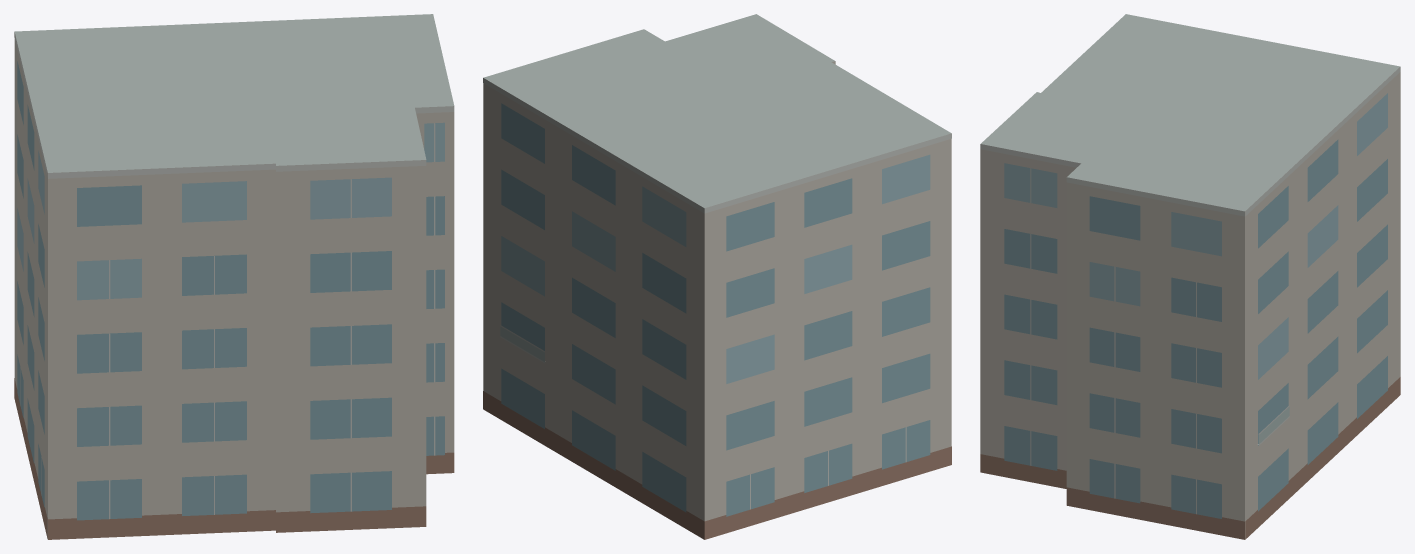
The model's file is survey-upis-32555298.glb.
3 renders of one model, left to right at view 1: azimuth 30°, elevation 25°; view 2: azimuth 150°, elevation 25°; view 3: azimuth 270°, elevation 25°, orthographic. The views are drawn at different scales.
Visible parts, largest first — view 1: survey-upis-32555298.tmp; view 2: survey-upis-32555298.tmp; view 3: survey-upis-32555298.tmp.
Part boxes in pixels (x1=…): survey-upis-32555298.tmp: x1=14, y1=14, x2=454, y2=539; survey-upis-32555298.tmp: x1=483, y1=14, x2=951, y2=539; survey-upis-32555298.tmp: x1=980, y1=14, x2=1400, y2=539.
Size of the model in its own units: 19.67 by 15.25 by 17.69.
